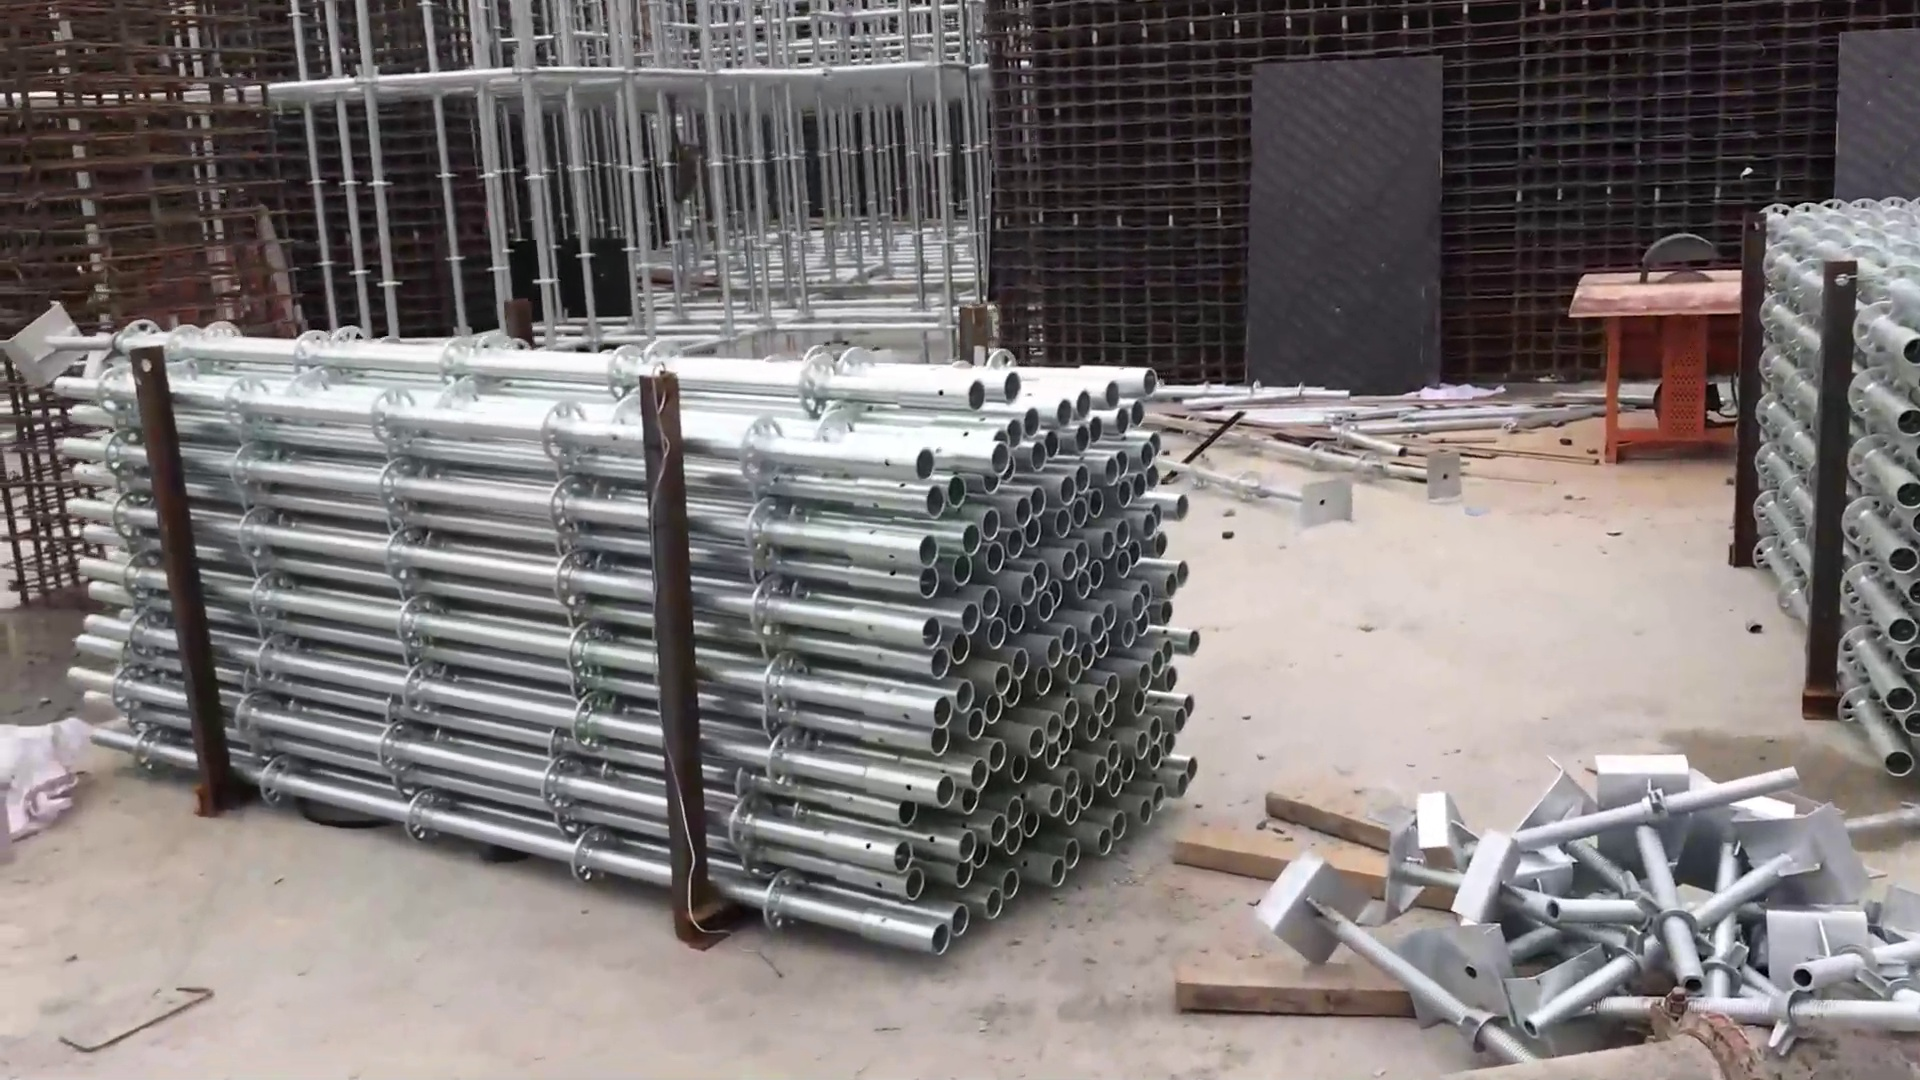cutter: (1564, 218, 1753, 467)
scaffold: (32, 322, 1207, 975), (1760, 186, 1920, 781)
